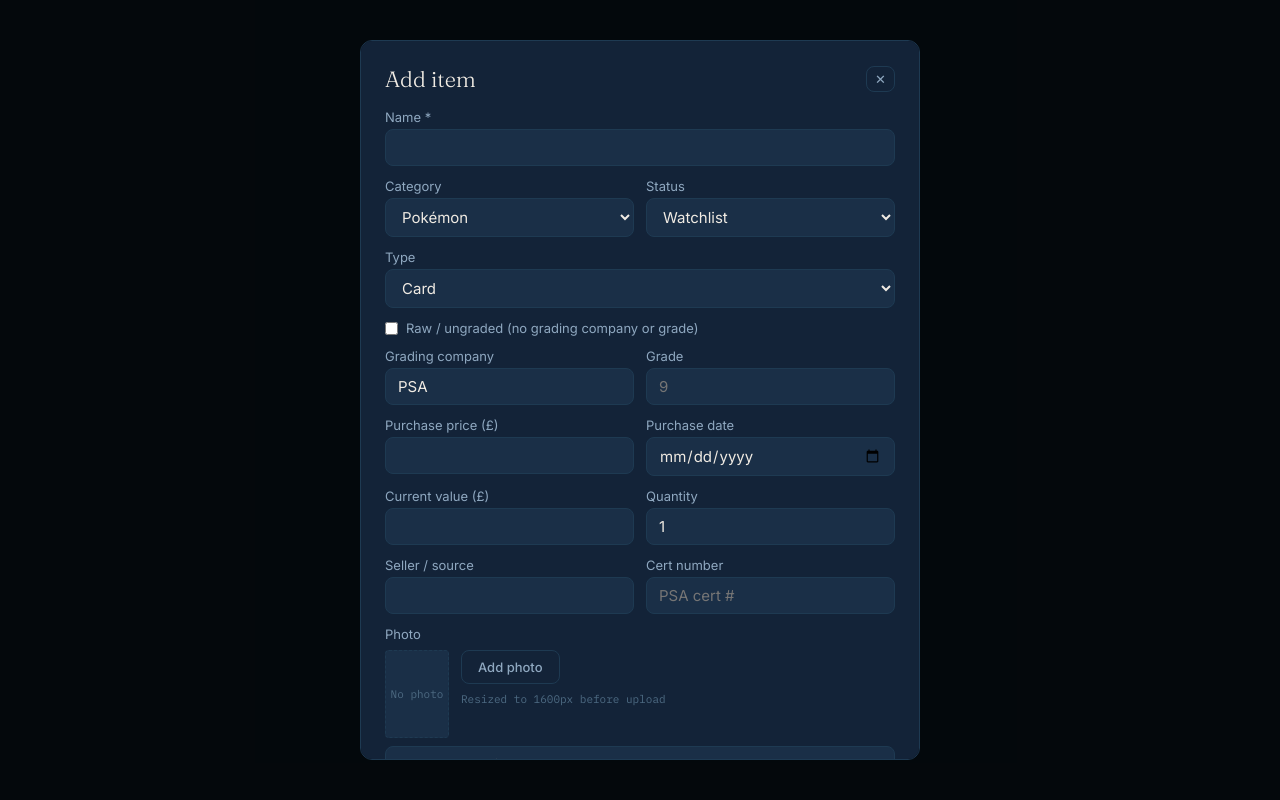
Test: ItemForm failure handling › shows the error and stays open when saving fails
The image size is (1280, 800).
Type "Broken" into the field labelled "Name *". click: (640, 148)
box: [385, 129, 895, 166]
(page scrolled)
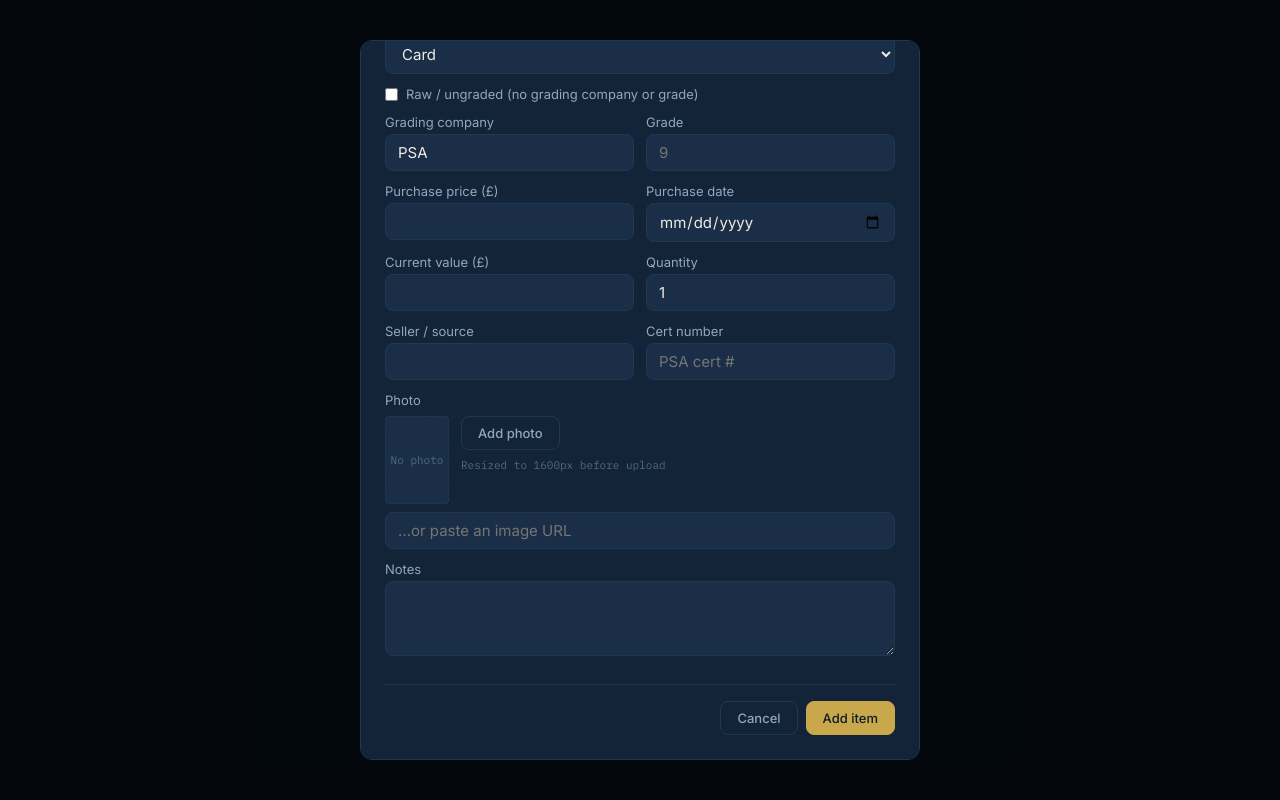
Click the button "Add item". click: click(850, 718)
box: [806, 701, 895, 735]
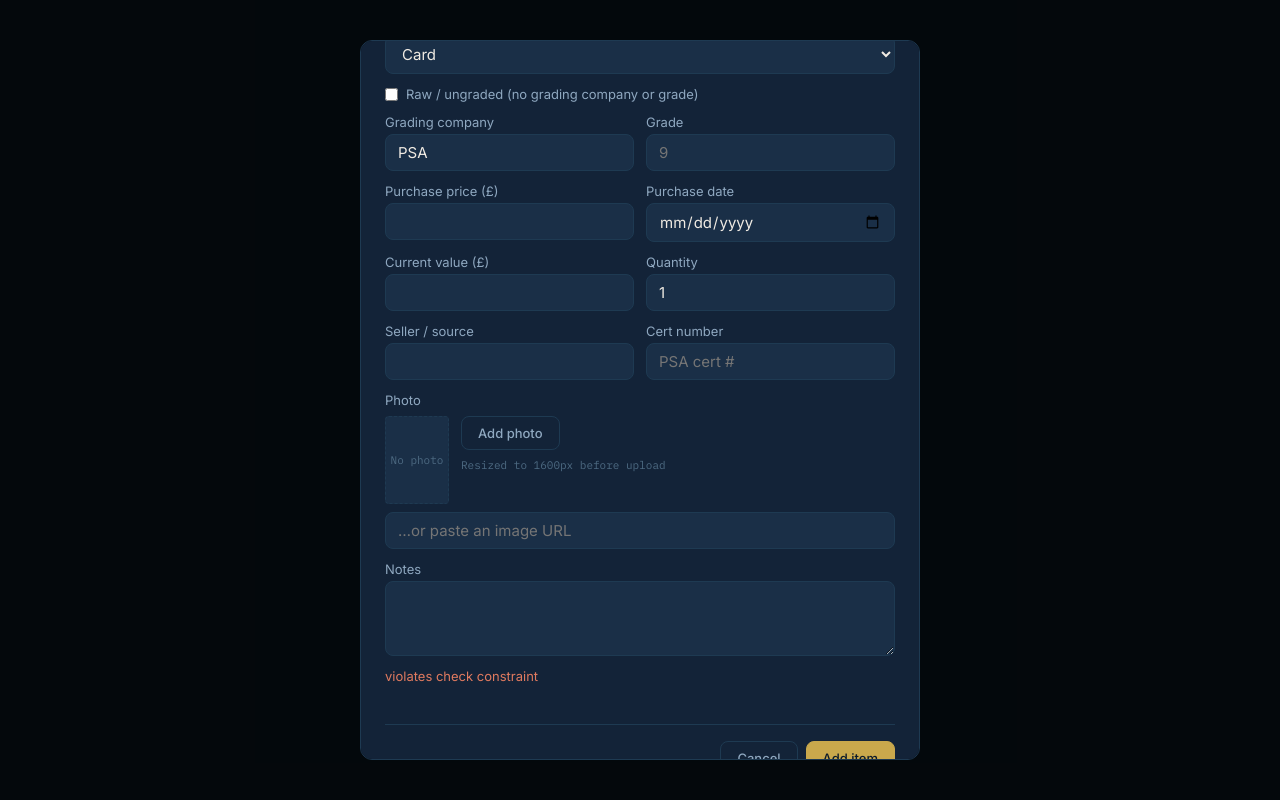
Check: the message reads "violates check constraint", box [385, 668, 538, 684]
